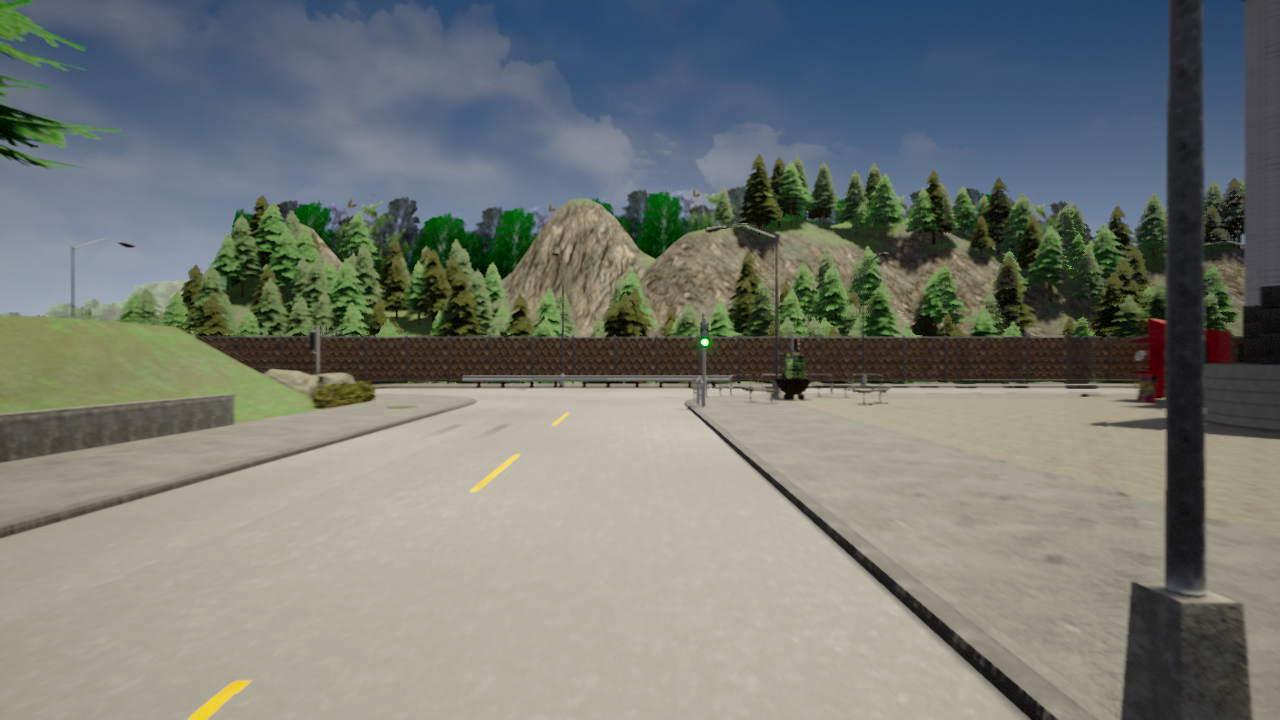green: (699, 321, 710, 348)
